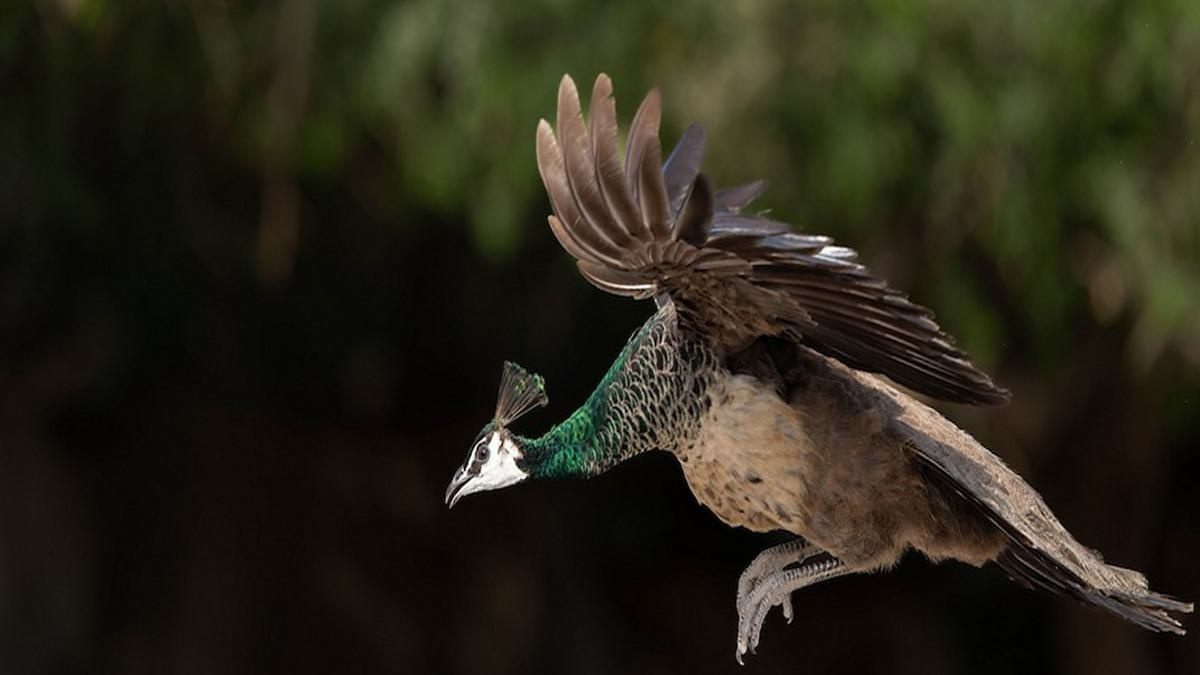peacock: (369, 98, 1179, 675)
